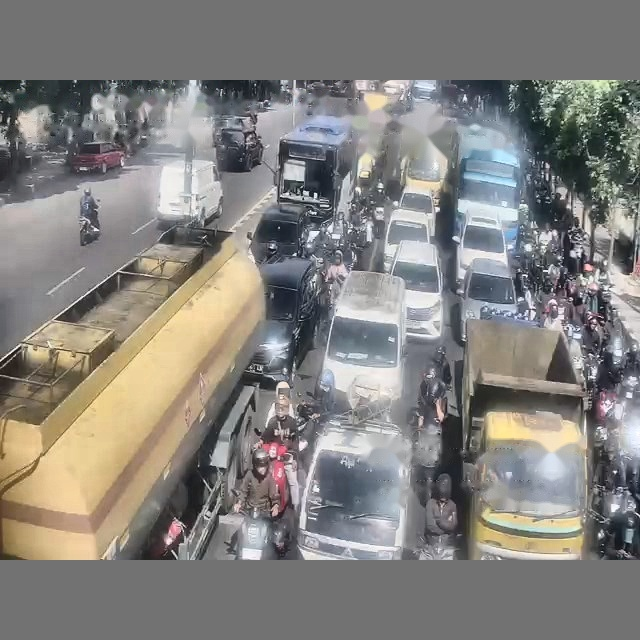Bis: (276, 115, 357, 216)
Mobil: (297, 418, 423, 559), (245, 257, 320, 386), (390, 241, 443, 339), (456, 258, 517, 342), (452, 214, 508, 281), (247, 204, 308, 263), (383, 210, 431, 272), (215, 126, 263, 170), (70, 142, 125, 173), (413, 80, 439, 101), (330, 80, 352, 97)
Motor: (79, 216, 100, 245)
Truk: (0, 226, 265, 559), (461, 319, 587, 559)
